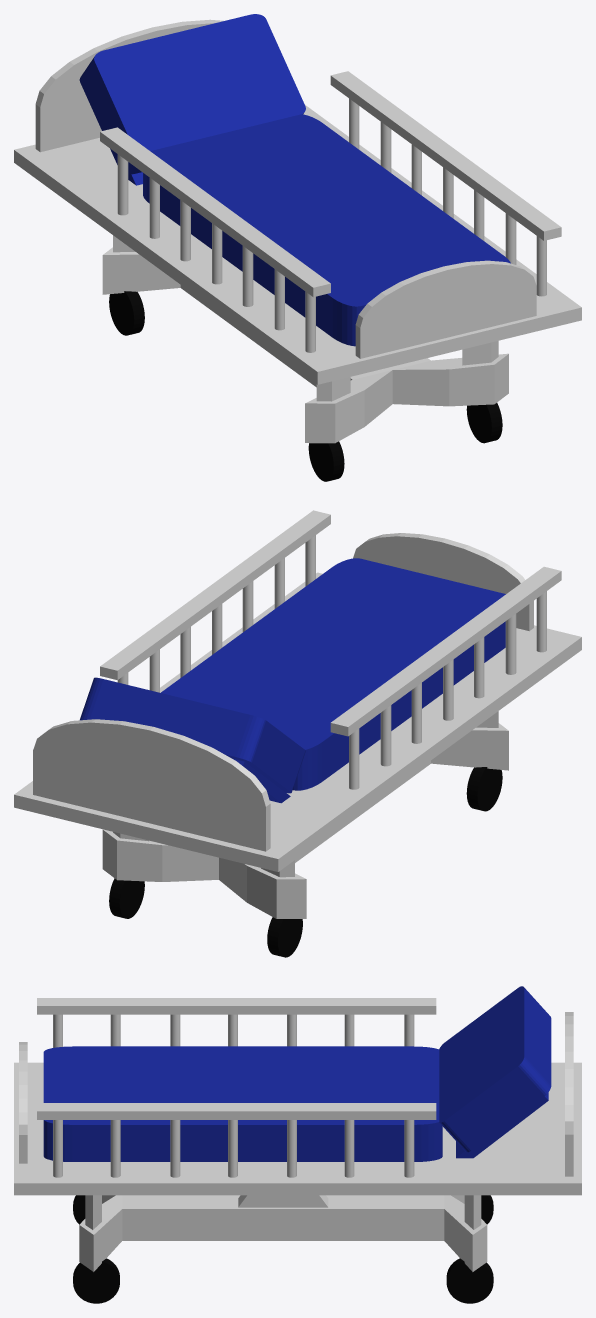
File: gurney.fbx
3 views of the same model, one above another, from view 1: azimuth 30°, elevation 25°; view 2: azimuth 150°, elevation 25°; view 3: azimuth 270°, elevation 25° (orthographic). The views are drawn at different scales.
Parts seen in each view (by area): view 1: Cube.002; view 2: Cube.002; view 3: Cube.002.
Boxes of the visible parts, x1,y1,x2,y2 form: Cube.002: (14,14,581,481); Cube.002: (14,510,581,957); Cube.002: (14,986,581,1303).
Size of the model in its own units: 143 by 134 by 285.
